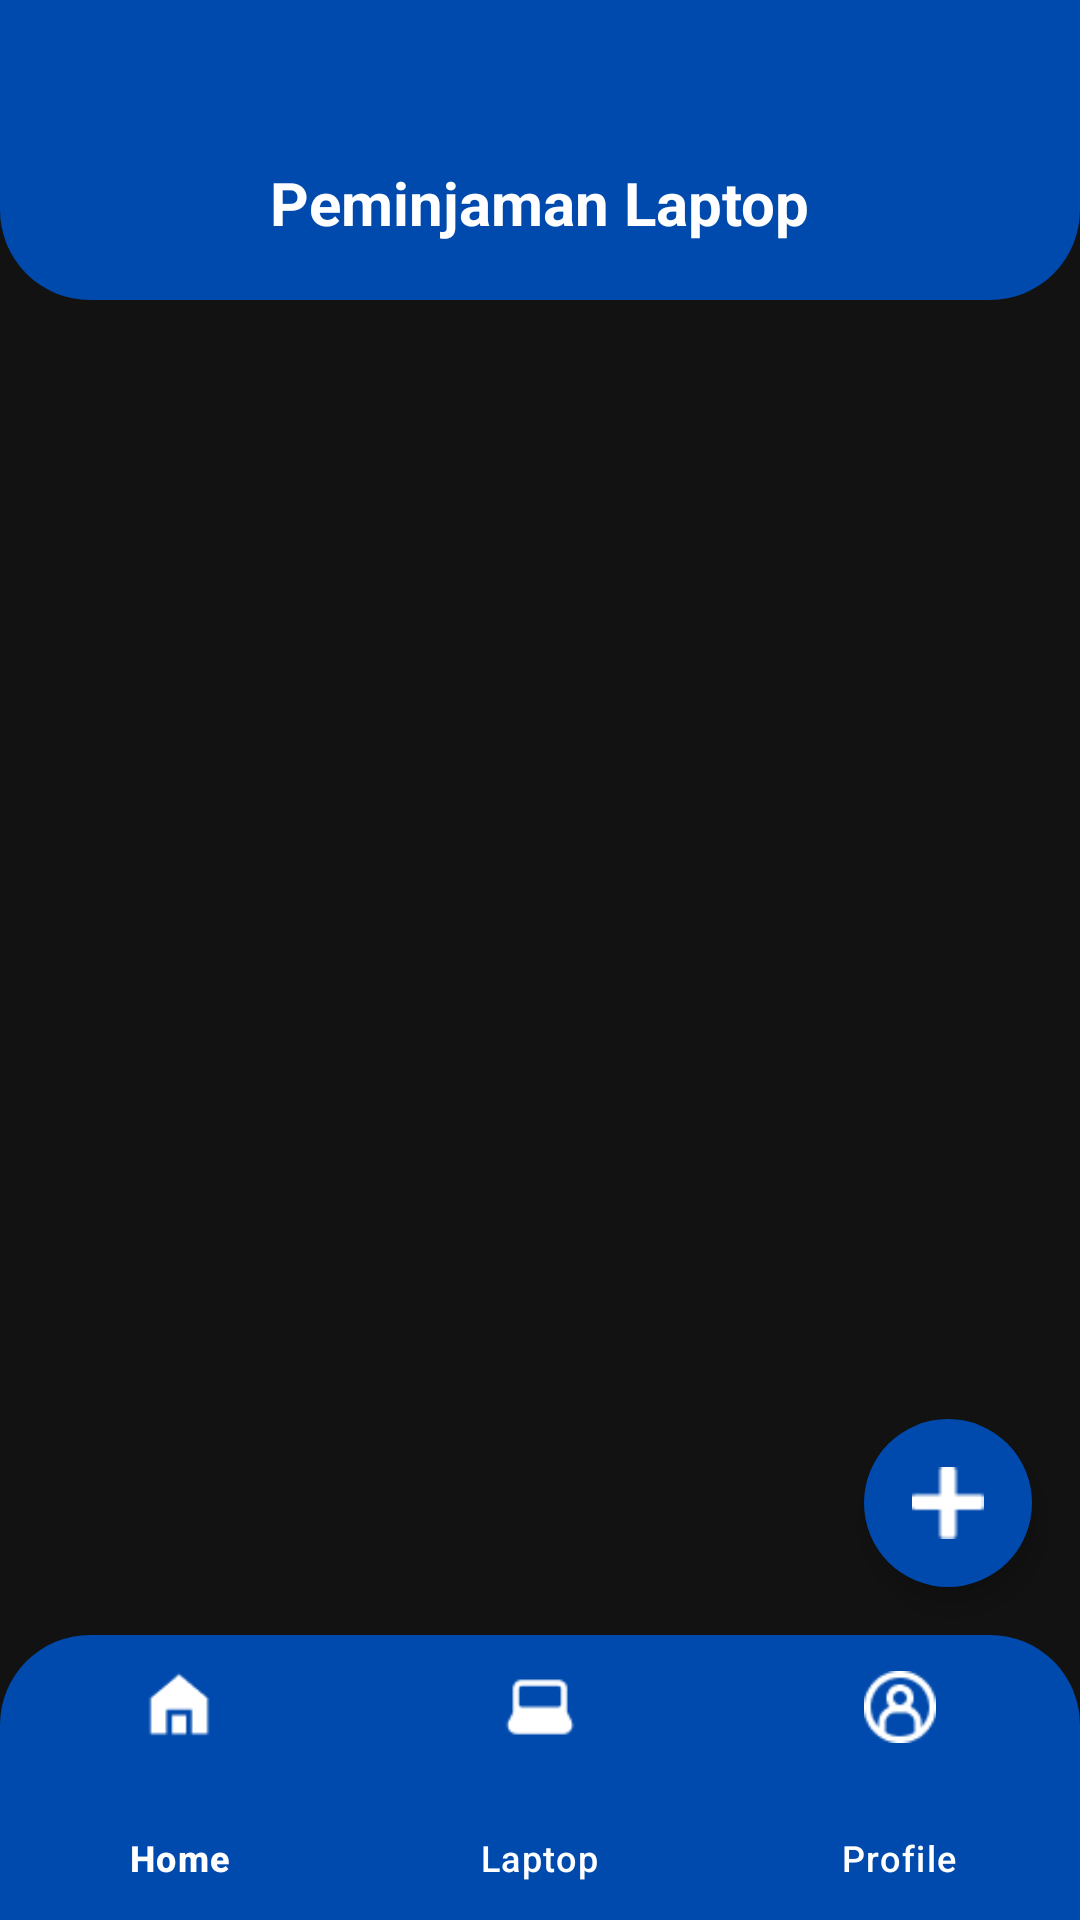

Icon click points for this 1080 × 1920 phone screenshot, format (x=x, y=y):
plus: (x=948, y=1503)
